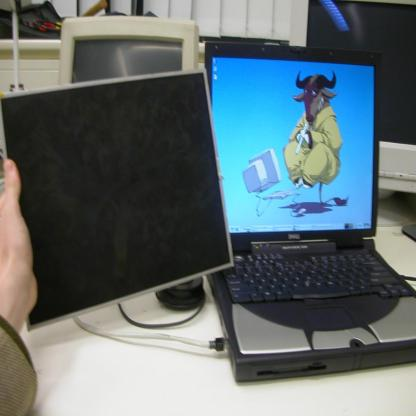board: (204, 39, 416, 382)
